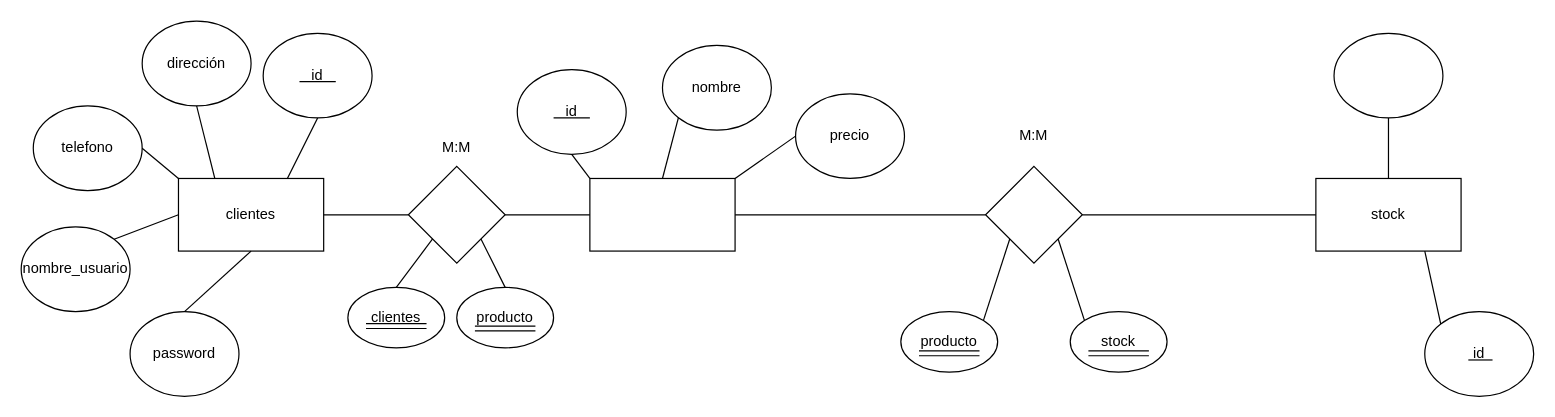
Some shapes in this 1555 by 417 pixel diagram are drawn without their labels. Here are the shapes that lost their labels. From the top down, the centre of each, then its label:
At point (1388, 75): "cantidad".
At point (456, 214): "compras".
At point (662, 214): "productos".
At point (1033, 214): "almacen".
